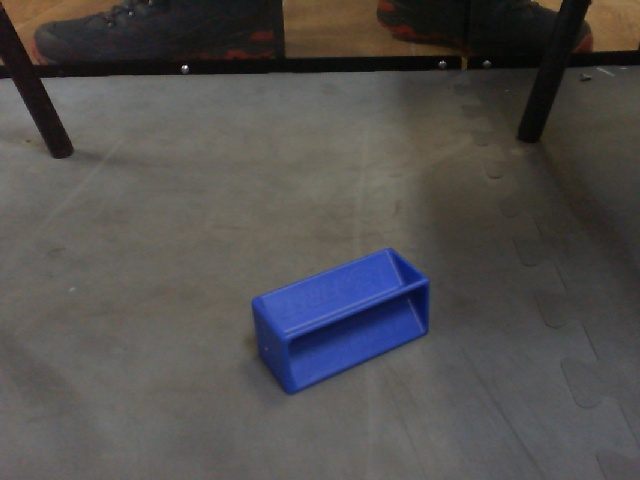BlueSample: (247, 246, 433, 399)
